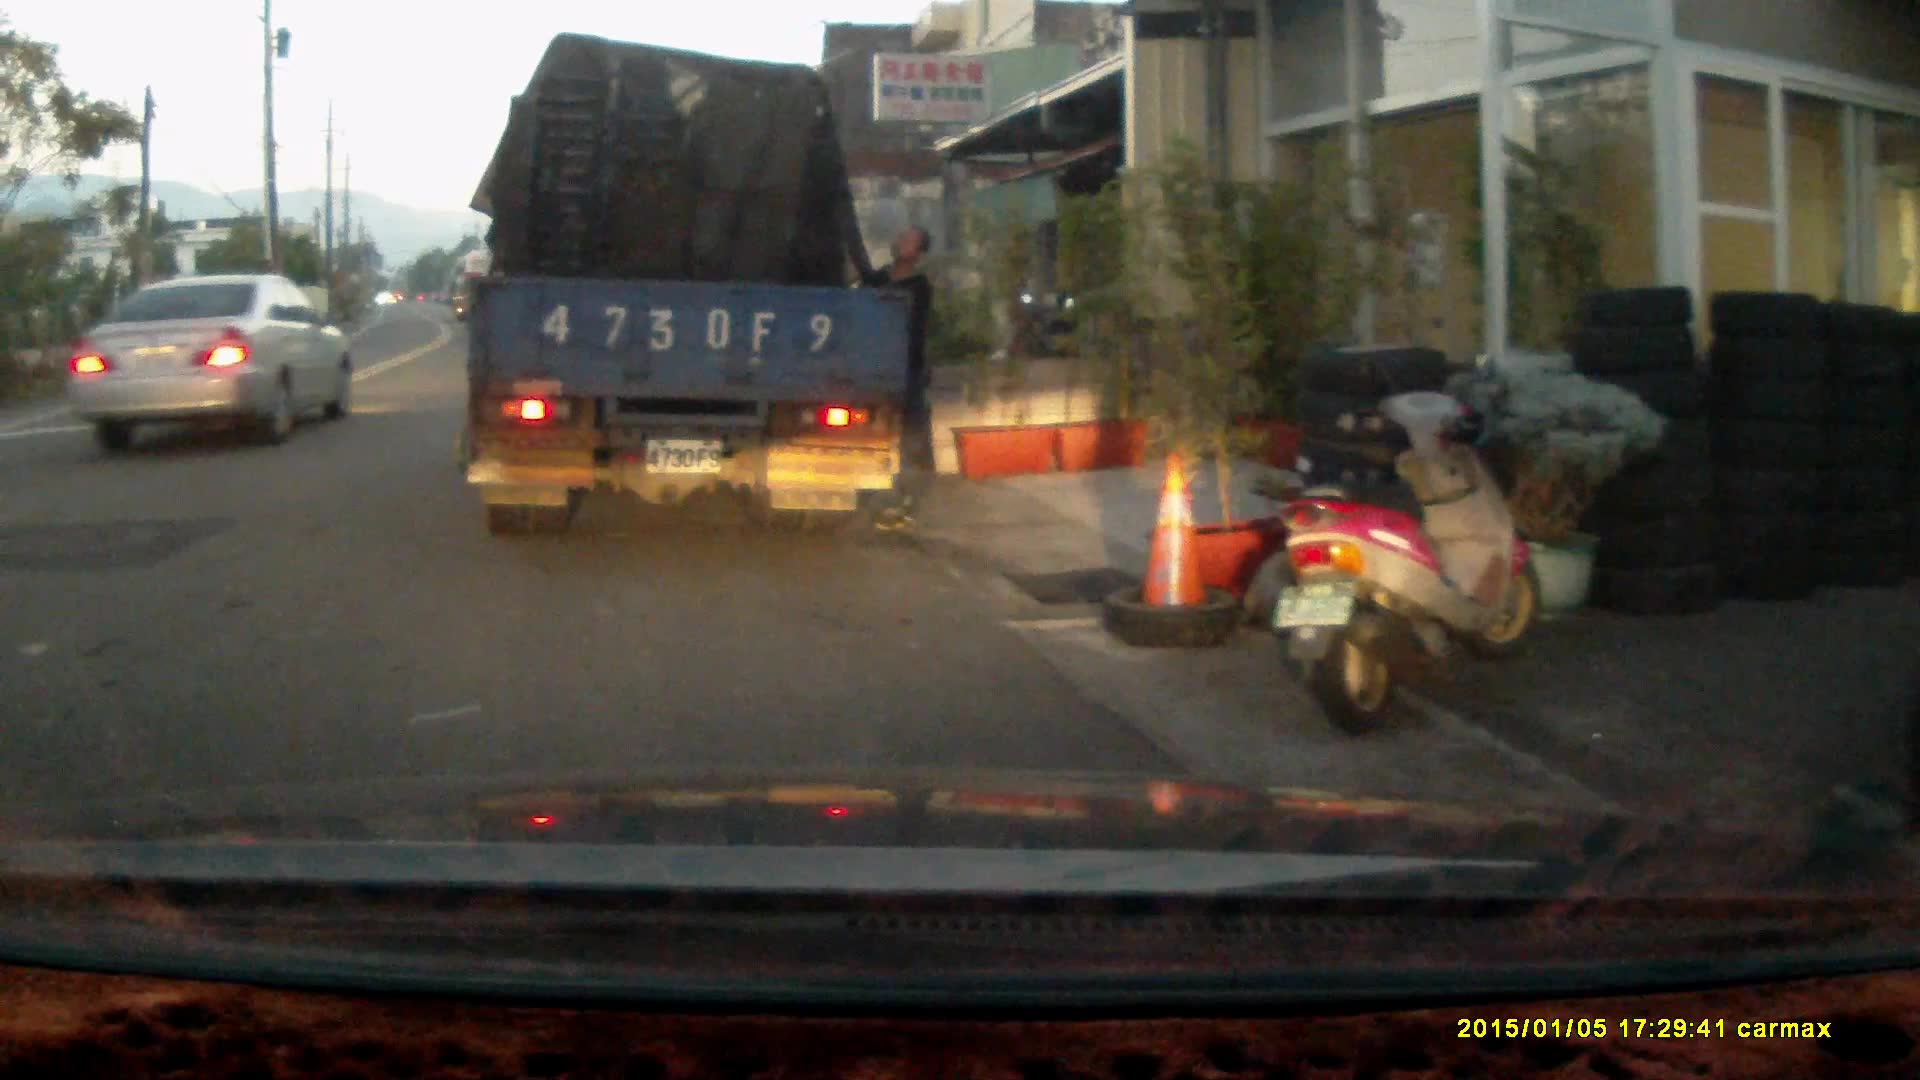pedestrian: (857, 226, 936, 532)
vehicle: (474, 39, 924, 533), (45, 273, 342, 450)
